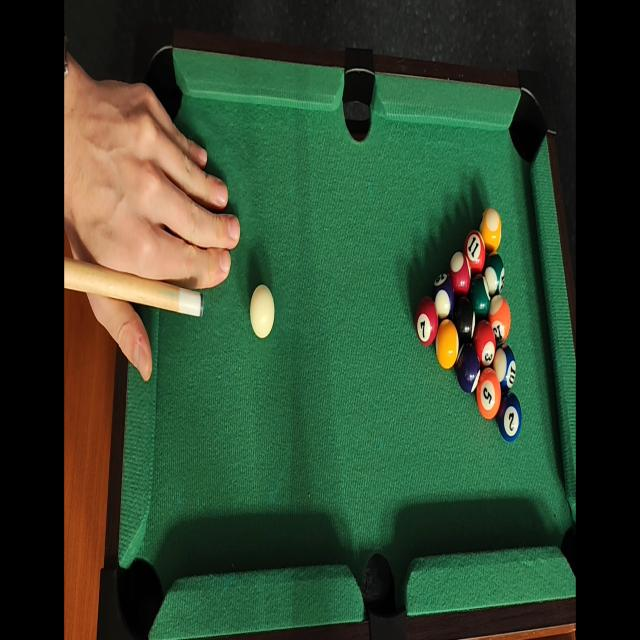cue ball: (245, 276, 278, 344)
other: (487, 336, 519, 395), (452, 336, 480, 402), (494, 390, 524, 448), (431, 314, 459, 376), (413, 291, 440, 351), (476, 201, 504, 256), (475, 363, 501, 422), (485, 288, 512, 344), (428, 268, 456, 322), (450, 291, 478, 343), (479, 249, 507, 300), (471, 312, 495, 368), (448, 244, 473, 296), (468, 269, 492, 318), (464, 226, 486, 276)
